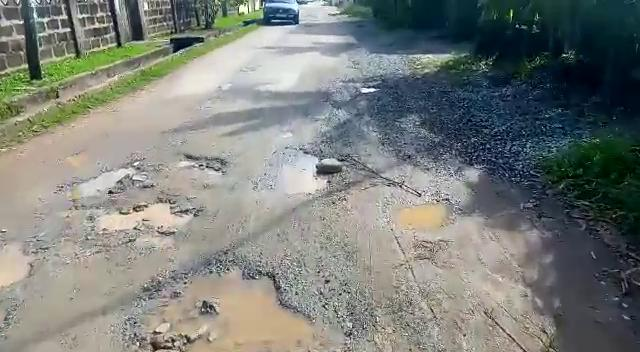pothole: (127, 267, 370, 349), (57, 155, 146, 201), (105, 199, 196, 231), (263, 147, 322, 196), (390, 199, 454, 232), (0, 243, 36, 289), (181, 155, 230, 176)
